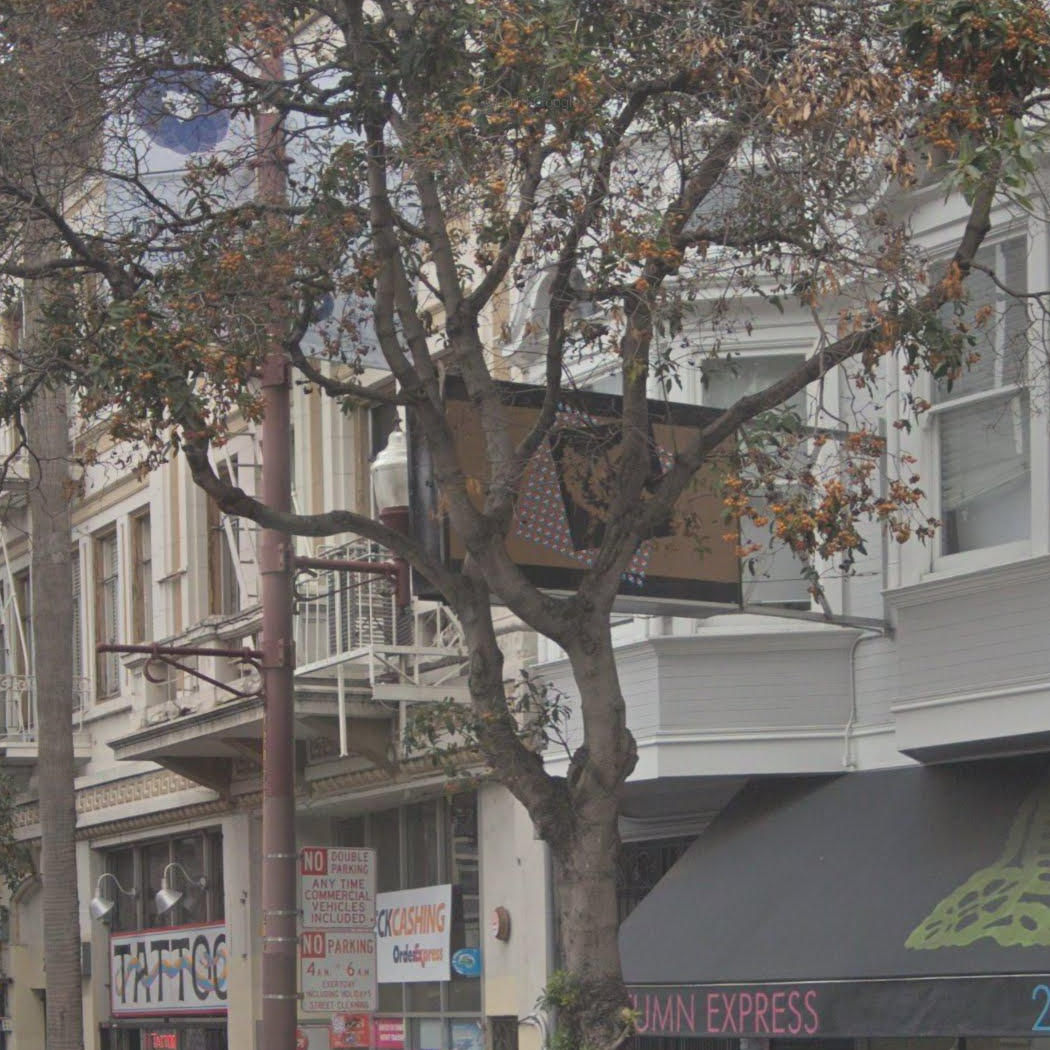No Parking: (295, 928, 382, 1021), (297, 841, 381, 931)
